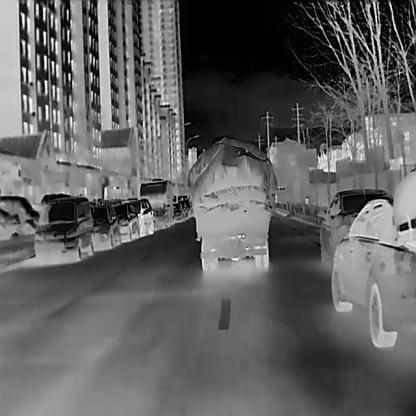car: (331, 167, 415, 347), (316, 188, 392, 262), (33, 194, 94, 263), (0, 194, 39, 233), (90, 203, 121, 250), (112, 201, 140, 241), (128, 197, 152, 234), (172, 200, 184, 221)
truck: (186, 136, 276, 269), (139, 177, 174, 228)
